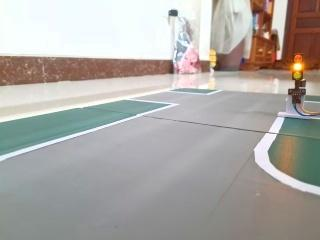yellow: (290, 48, 312, 91)
